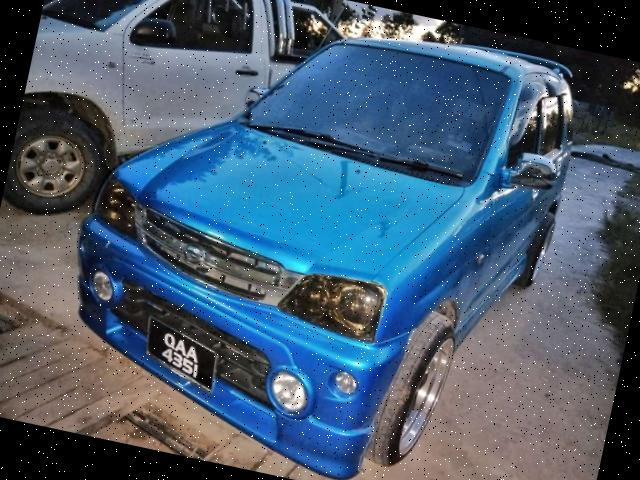License_Plate: (135, 319, 225, 398)
car: (45, 1, 593, 480)
